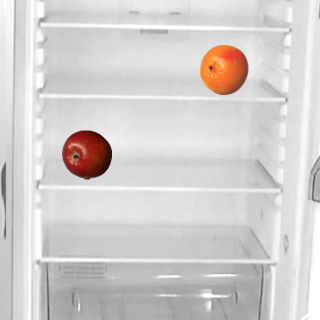Apple Braeburn: (61, 129, 111, 179)
Grapefruit Pink: (198, 44, 248, 94)
